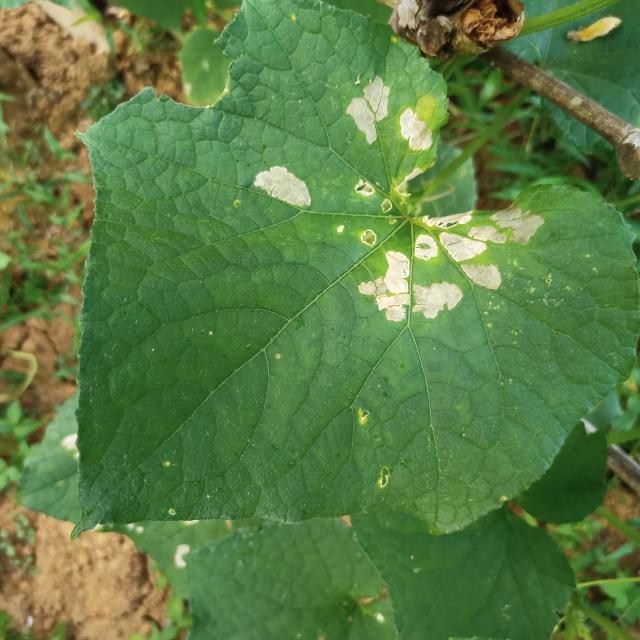disease_cucumber: (353, 204, 545, 324), (343, 73, 394, 148), (249, 162, 317, 212), (395, 105, 434, 155), (353, 177, 395, 217)
